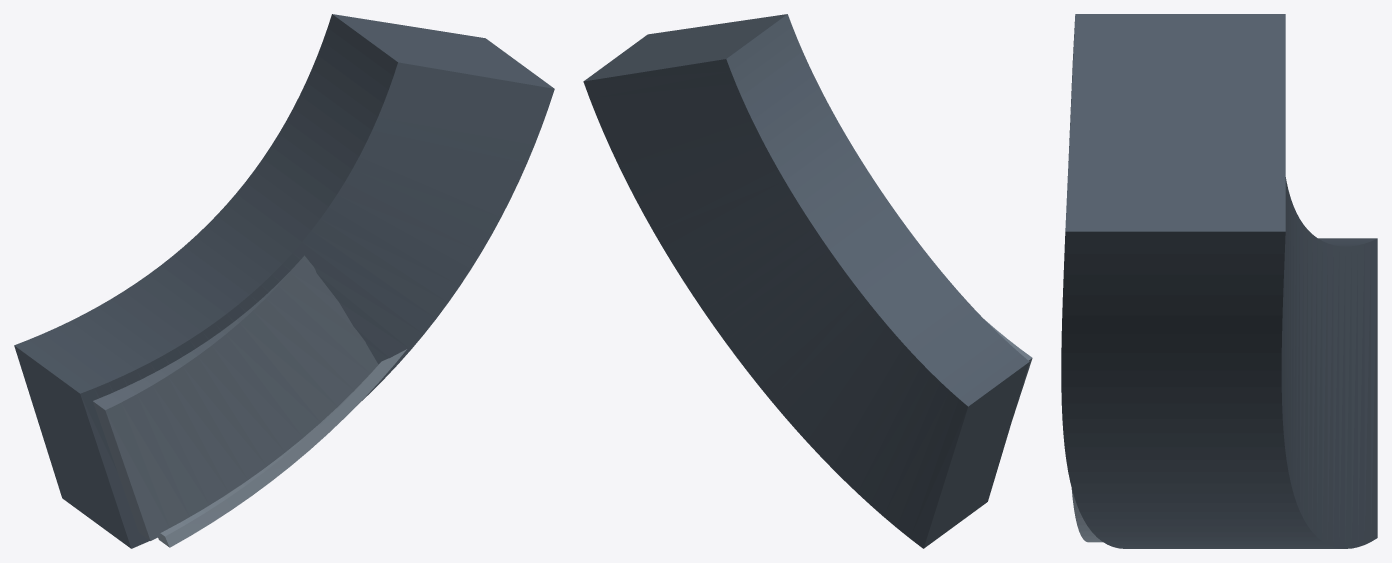
The model's file is ev_core_r10dp_outer_se.glb.
3 renders of one model, left to right at view 1: azimuth 30°, elevation 25°; view 2: azimuth 150°, elevation 25°; view 3: azimuth 270°, elevation 25°, orthographic. The views are drawn at different scales.
Visible parts, largest first — view 1: outer_se_body, outer_se_inset, outer_se_edge; view 2: outer_se_body; view 3: outer_se_body, outer_se_edge.
Boxes of the visible parts, <box> form: outer_se_body: <box>14,14,554,548</box>; outer_se_inset: <box>93,255,378,540</box>; outer_se_edge: <box>158,349,406,547</box>; outer_se_body: <box>583,14,1029,548</box>; outer_se_body: <box>1061,14,1377,548</box>; outer_se_edge: <box>1071,488,1102,542</box>.
Bounding box in the file's own units: 124 × 119 × 48.12.
